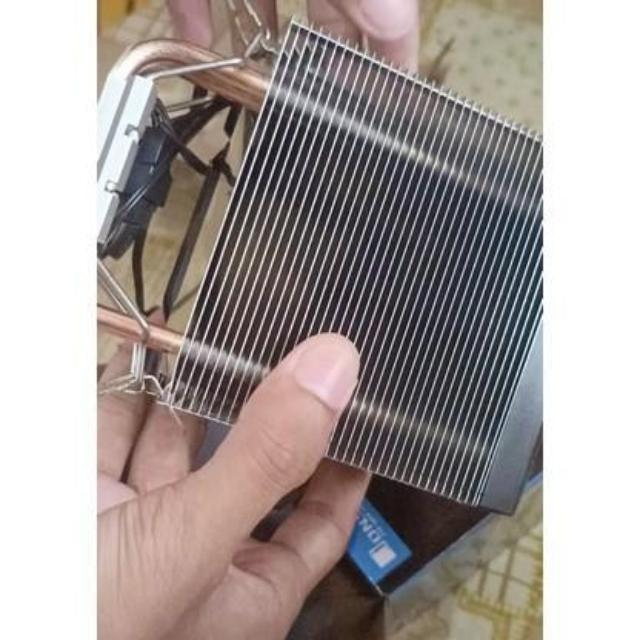CPU_Fan: (72, 17, 560, 515)
